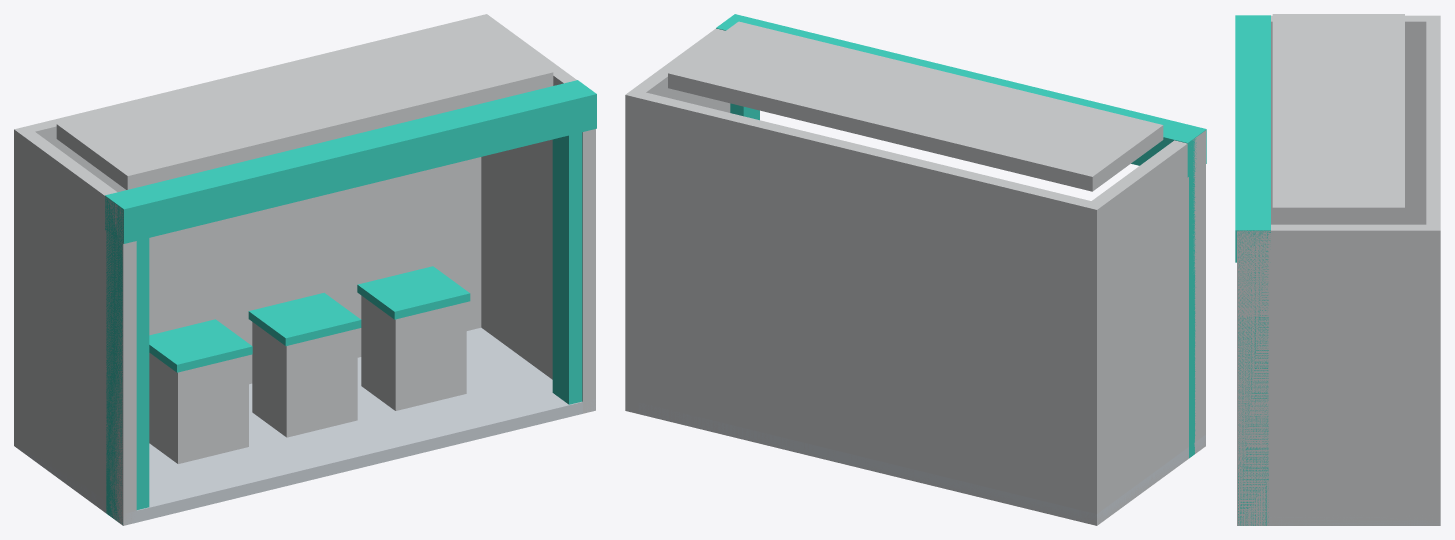
3 renders of one model, left to right at view 1: azimuth 30°, elevation 25°; view 2: azimuth 150°, elevation 25°; view 3: azimuth 270°, elevation 25°, orthographic. The views are drawn at different scales.
Parts seen in each view (by area): view 1: Exhibition Booth Concept; view 2: Exhibition Booth Concept; view 3: Exhibition Booth Concept.
Boxes of the visible parts, <box> form: Exhibition Booth Concept: <box>14,14,596,525</box>; Exhibition Booth Concept: <box>625,14,1206,525</box>; Exhibition Booth Concept: <box>1235,14,1440,525</box>.
Size of the model in its own units: 5 by 3.34 by 2.01.
